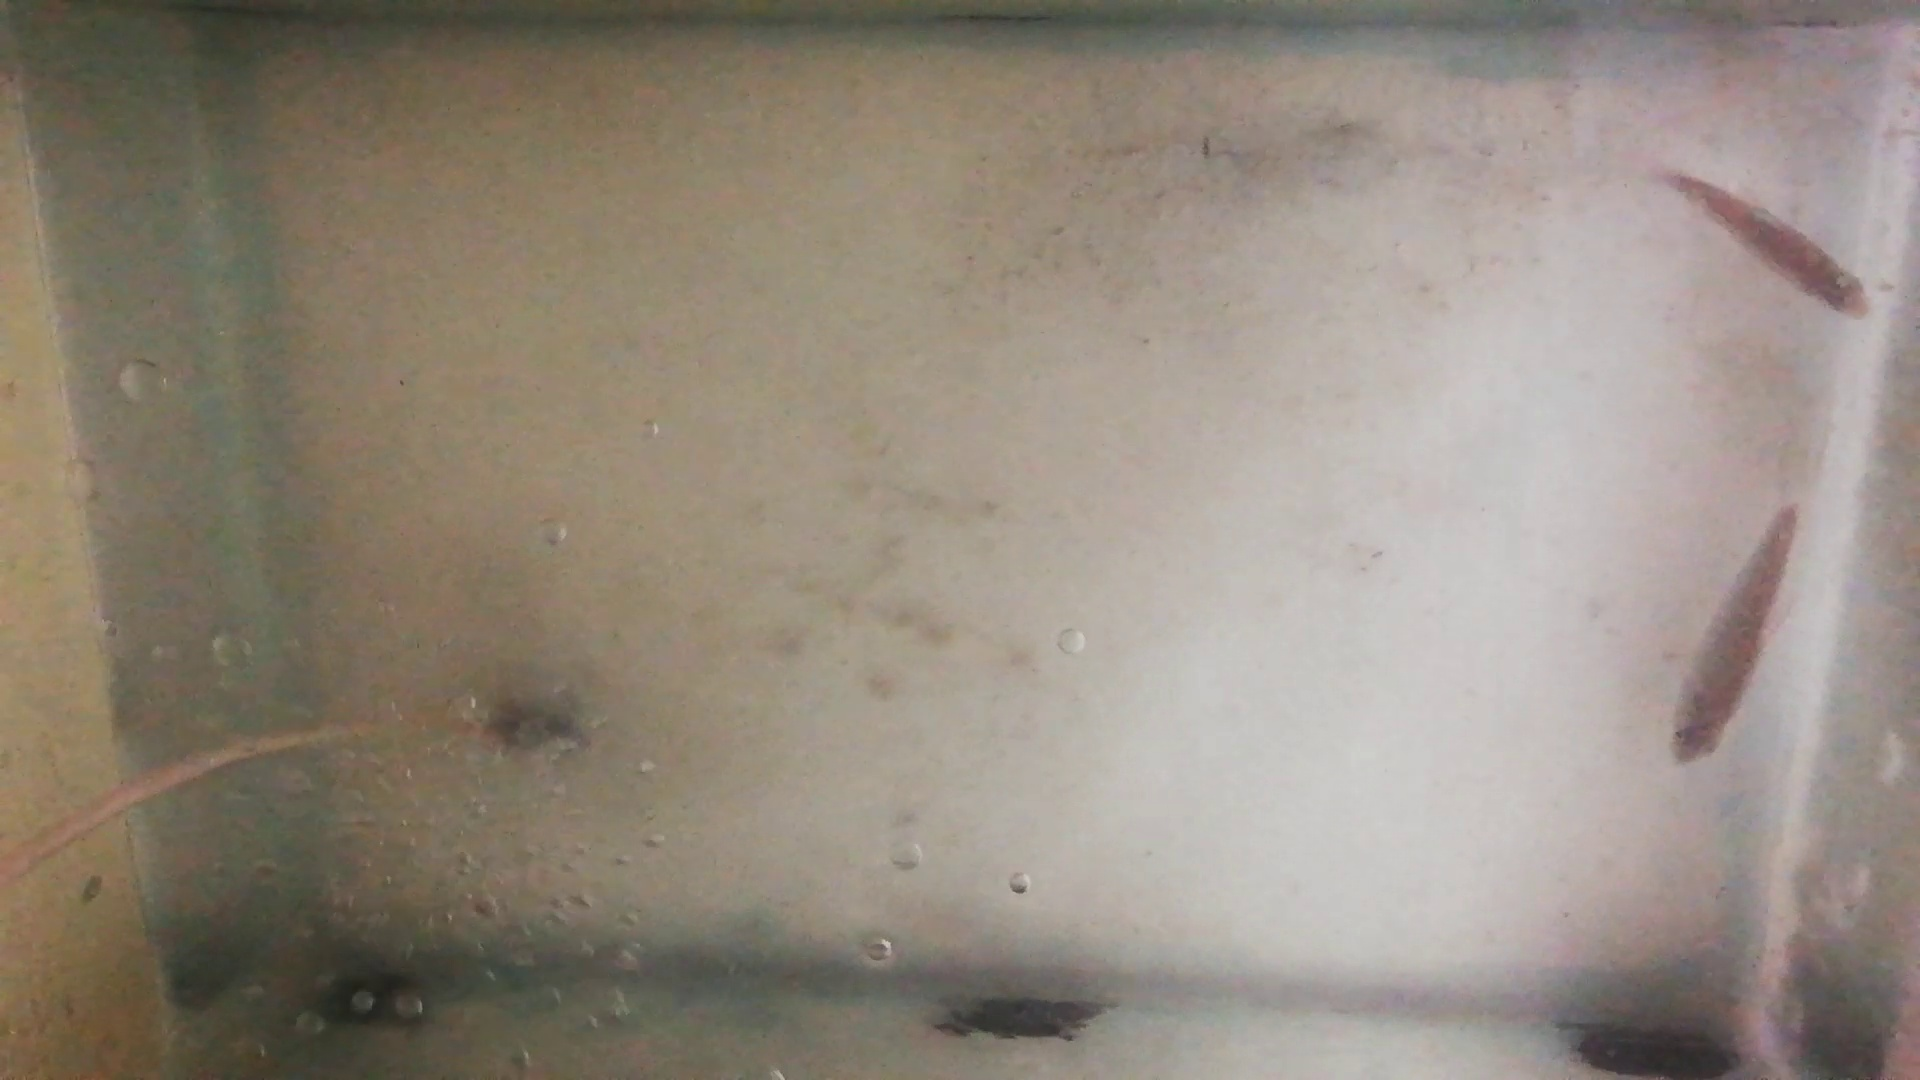fish: (1662, 505, 1803, 765), (1658, 169, 1874, 320)
